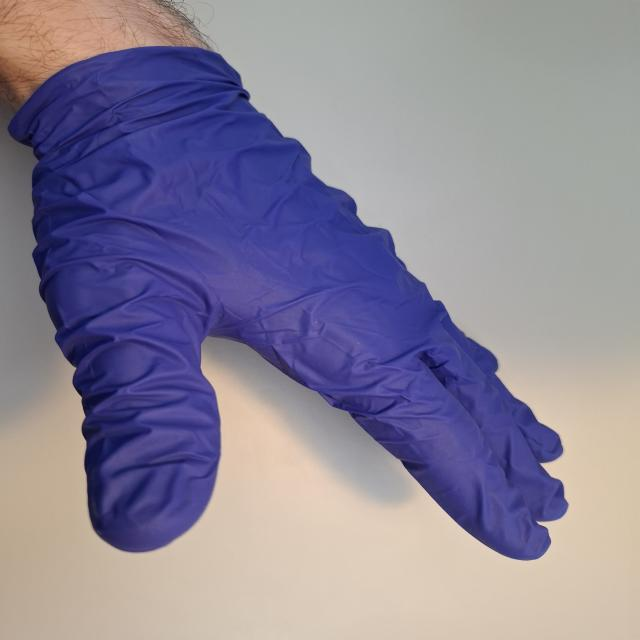glove_on: (6, 44, 568, 560)
